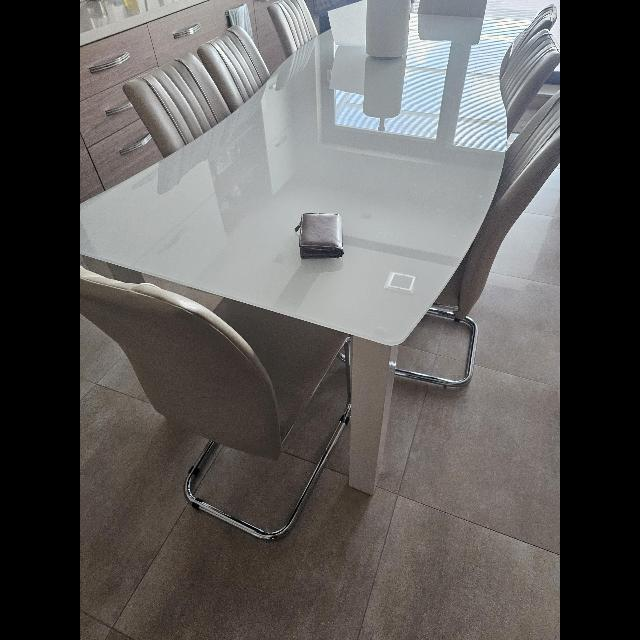Wallet: (296, 212, 344, 260)
